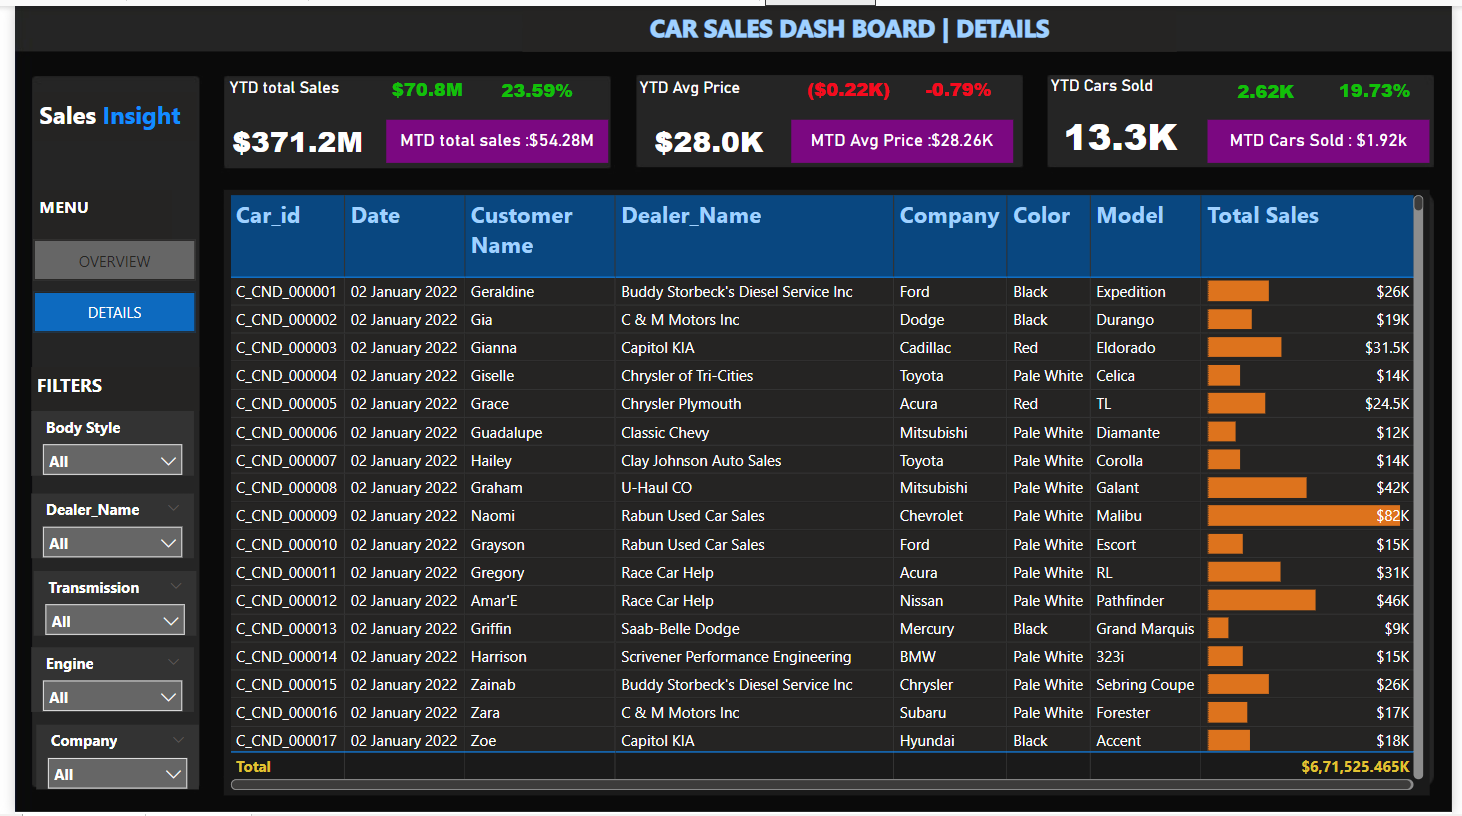

The page's visual inventory and layout, read from the dashboard file:
{"tool":"powerbi","page":{"name":"DETAILS","canvas":[1280,720],"ordinal":1},"visuals":[{"type":"card","title":"YTD total Sales","fields":{"Values":["car_data.YTD total Sales"]},"box":[185.7,63.6,132.1,99.7],"z":0},{"type":"card","fields":{"Values":["car_data.sales Difference"]},"box":[318.4,62.7,97.7,27.7],"z":1000},{"type":"card","fields":{"Values":["car_data.YOY sales Growth"]},"box":[416.1,63.9,97.7,27.7],"z":2000},{"type":"card","fields":{"Values":["car_data.MTD KPI"]},"box":[330.5,101.3,197.8,38.6],"z":3000},{"type":"card","title":"YTD Avg Price","fields":{"Values":["car_data.YTD Avg Price"]},"box":[551,63.6,134.6,99.7],"z":4000},{"type":"card","fields":{"Values":["car_data.Avg Price Diff"]},"box":[693.5,62.7,97.7,27.7],"z":5000},{"type":"card","fields":{"Values":["car_data.YOY avg Price Growth"]},"box":[791.2,62.7,97.7,27.7],"z":6000},{"type":"card","fields":{"Values":["car_data.MTD Avg Price KPI"]},"box":[691.1,101.3,197.8,38.6],"z":7000},{"type":"card","title":"YTD  Cars Sold","fields":{"Values":["car_data.YTD Cars sold"]},"box":[917.5,62.3,134.6,92.2],"z":8000},{"type":"card","fields":{"Values":["car_data.Cars Sold Diif"]},"box":[1064.6,63.6,97.2,28.7],"z":9000},{"type":"card","fields":{"Values":["calander table.YOY Car Sold growth"]},"box":[1161.4,63.9,97.7,27.7],"z":10000},{"type":"card","fields":{"Values":["calander table.MTD Cars sold KPI"]},"box":[1061.3,101.3,197.8,38.6],"z":11000},{"type":"textbox","box":[452.3,0,582.5,41],"z":12000},{"type":"slicer","fields":{"Values":["car_data.Body Style"]},"box":[14.5,360.6,144.7,57.9],"z":13000},{"type":"slicer","fields":{"Values":["car_data.Dealer_Name"]},"box":[14.5,434.2,144.7,57.9],"z":14000},{"type":"slicer","fields":{"Values":["car_data.Transmission"]},"box":[16.9,502.9,144.7,57.9],"z":15000},{"type":"slicer","fields":{"Values":["car_data.Engine"]},"box":[14.5,570.5,144.7,57.9],"z":16000},{"type":"textbox","box":[14.5,322,149.5,38.6],"z":17000},{"type":"tableEx","fields":{"Values":["car_data.Car_id","car_data.Date","car_data.Customer Name","car_data.Dealer_Name","car_data.Company","car_data.Color","car_data.Model","car_data.Price ($)"]},"box":[185.7,164,1073.4,539.1],"z":18000},{"type":"textbox","box":[16.9,77.2,144.7,43.4],"z":19000},{"type":"textbox","box":[16.9,164,123,44.6],"z":20000},{"type":"pageNavigator","box":[16.9,208.6,144.7,83.2],"z":21000},{"type":"slicer","fields":{"Values":["car_data.Company"]},"box":[19.3,640.4,144.7,57.9],"z":22000}]}

Visuals, with their boxes on the page's 1280x720 design canvas (x1, y1, x2, y2). These are canvas units, not pixel positions in the 1462x816 screenshot, which may show the page scaled, cropped or inside an application window:
"YTD total Sales" card: 186,64,318,163
card - car_data.sales Difference: 318,63,416,90
card - car_data.YOY sales Growth: 416,64,514,92
card - car_data.MTD KPI: 330,101,528,140
"YTD Avg Price" card: 551,64,686,163
card - car_data.Avg Price Diff: 694,63,791,90
card - car_data.YOY avg Price Growth: 791,63,889,90
card - car_data.MTD Avg Price KPI: 691,101,889,140
"YTD  Cars Sold" card: 918,62,1052,154
card - car_data.Cars Sold Diif: 1065,64,1162,92
card - calander table.YOY Car Sold growth: 1161,64,1259,92
card - calander table.MTD Cars sold KPI: 1061,101,1259,140
textbox: 452,0,1035,41
slicer - car_data.Body Style: 14,361,159,418
slicer - car_data.Dealer_Name: 14,434,159,492
slicer - car_data.Transmission: 17,503,162,561
slicer - car_data.Engine: 14,570,159,628
textbox: 14,322,164,361
tableEx - car_data.Car_id x car_data.Date: 186,164,1259,703
textbox: 17,77,162,121
textbox: 17,164,140,209
pageNavigator: 17,209,162,292
slicer - car_data.Company: 19,640,164,698
